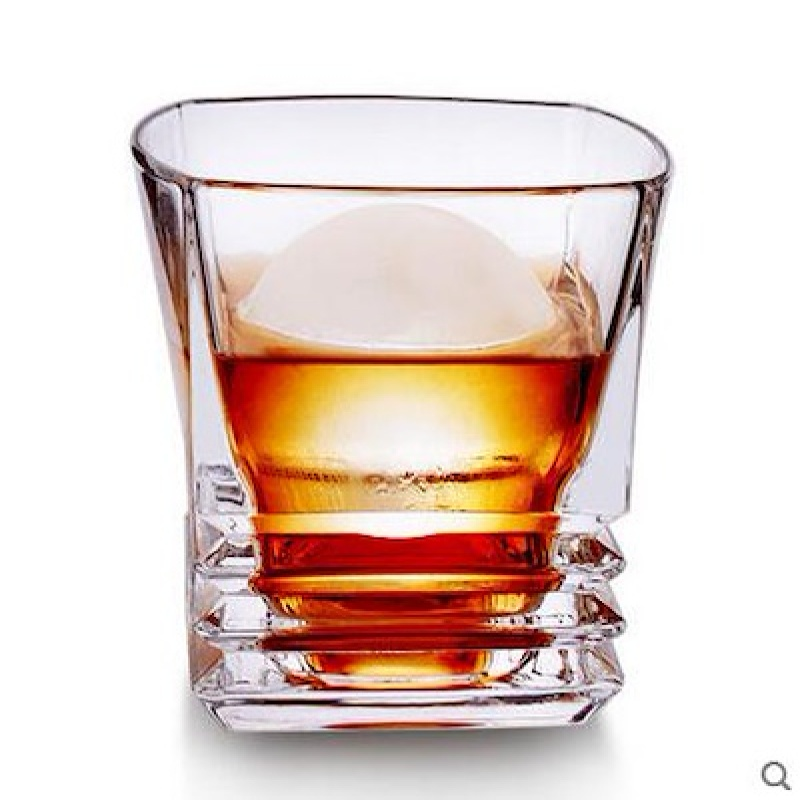whiskey: (128, 102, 682, 728)
